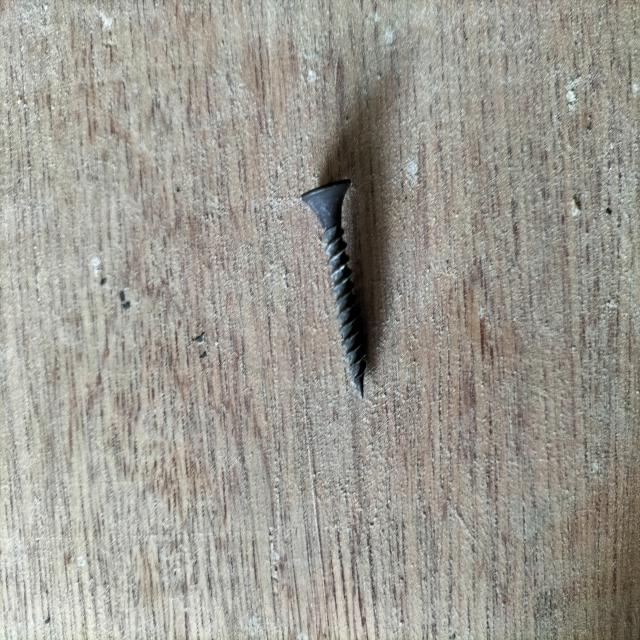screw: (298, 178, 378, 399)
